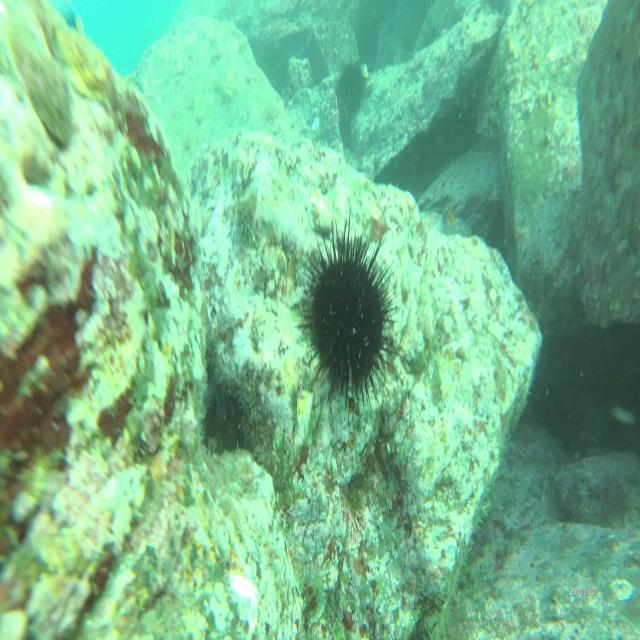echinus: (291, 204, 399, 416), (333, 55, 369, 120)
